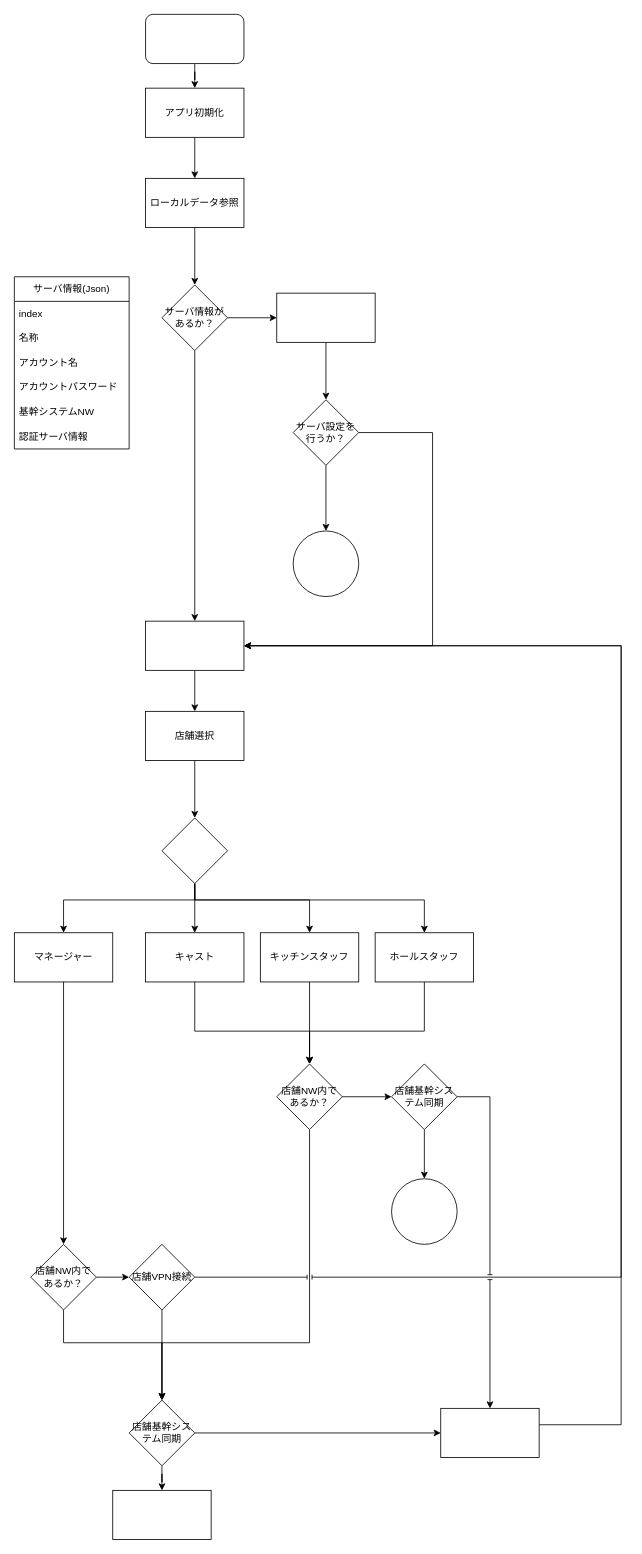
The diagram is 642 pixels wide and 1554 high, and some of its shapes have lost their labels. The shapes that lost their labels are listed below. From the top down, each one's centre as x and y in pixels, then its label:
At [194,39]: "アプリ起動".
At [325,317]: "サーバ情報無しポップアップ".
At [325,563]: "店舗情報設定".
At [194,645]: "店舗一覧画面".
At [194,850]: "ユーザ権限".
At [424,1211]: "勤務表画面".
At [489,1433]: "店舗基幹システム 接続エラー".
